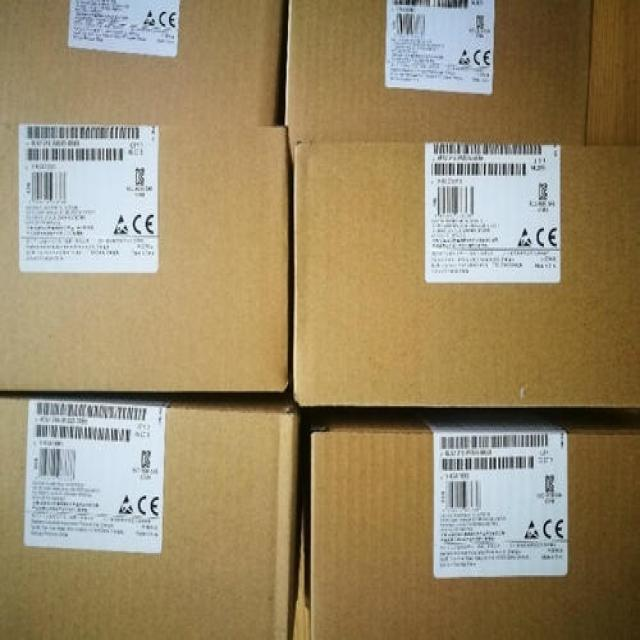box: (293, 142, 639, 406), (0, 123, 293, 392), (0, 397, 299, 638), (311, 423, 639, 638), (284, 0, 593, 161), (0, 0, 285, 125)
